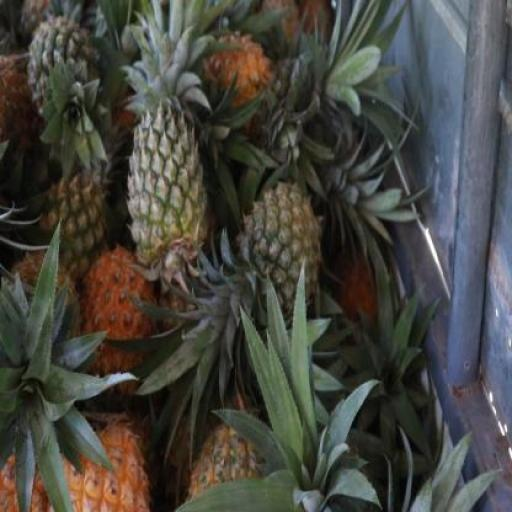Pineapple - v8 v1: (78, 248, 152, 398), (44, 419, 152, 512), (198, 36, 278, 119)
